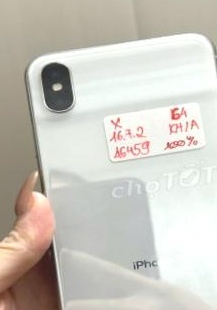scratch: (141, 30, 184, 48)
